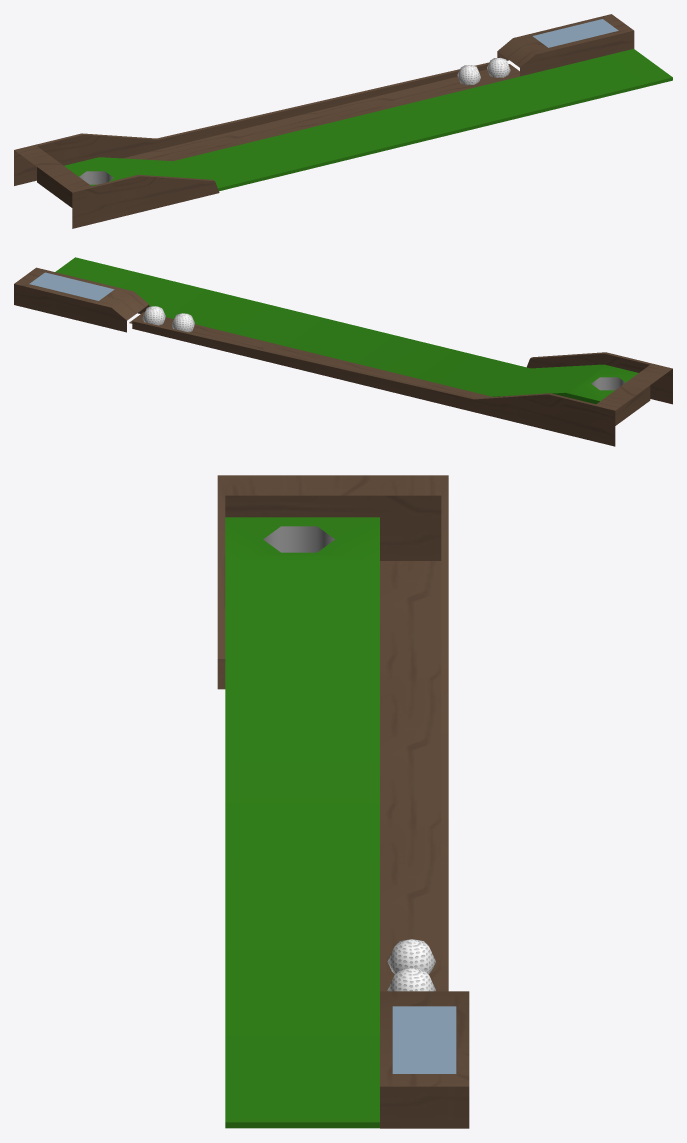
Rendered from interior_F_007.fbx.
The picture shows the model from 3 angles, top to bottom: view 1: azimuth 30°, elevation 25°; view 2: azimuth 150°, elevation 25°; view 3: azimuth 270°, elevation 25°; orthographic projection. The views are drawn at different scales.
Visible parts, largest first — view 1: interior_F_007; view 2: interior_F_007; view 3: interior_F_007.
Boxes of the visible parts, left/top/right/bottom form: interior_F_007: left=14, top=14, right=672, bottom=228; interior_F_007: left=14, top=257, right=672, bottom=446; interior_F_007: left=217, top=475, right=469, bottom=1128.
Bounding box in the file's own units: 241 × 13.85 × 43.96.
